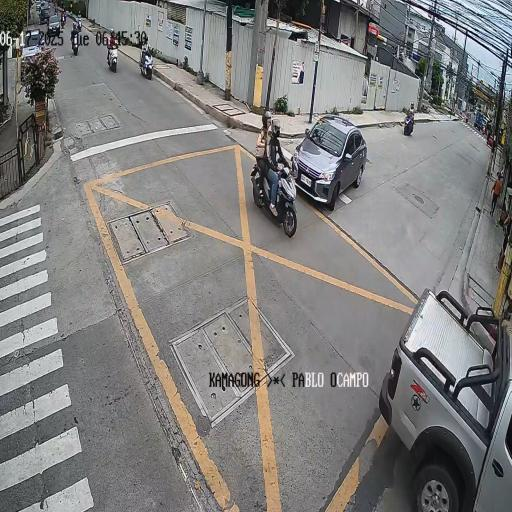Car: (376, 224, 512, 512), (291, 99, 375, 207), (44, 15, 66, 37)
Motor: (245, 101, 311, 250), (97, 24, 126, 78), (398, 100, 427, 153), (132, 38, 160, 82), (67, 23, 92, 64)
Not Accident: (242, 94, 364, 241)
